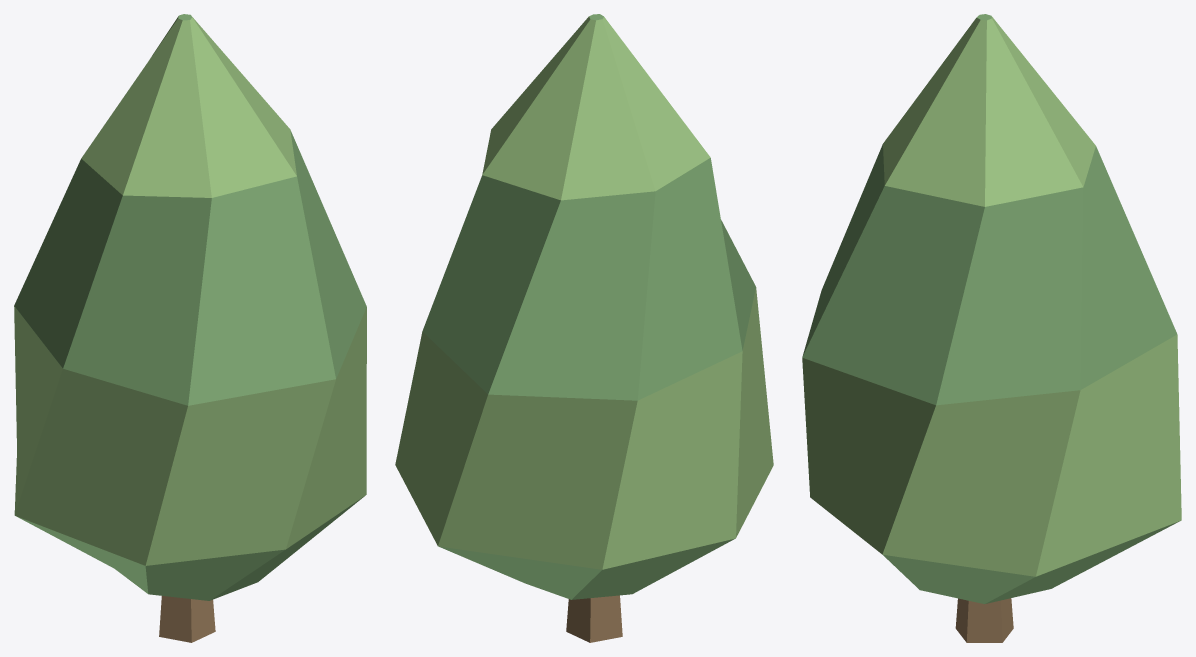
Rendered from Bush_Cone.fbx.
3 views of the same model, side by side, from view 1: azimuth 30°, elevation 25°; view 2: azimuth 150°, elevation 25°; view 3: azimuth 270°, elevation 25° (orthographic).
Parts seen in each view (by area): view 1: Bush_Cone; view 2: Bush_Cone; view 3: Bush_Cone.
Boxes of the visible parts, bbox=[...] form: Bush_Cone: bbox=[14, 14, 366, 642]; Bush_Cone: bbox=[395, 14, 773, 642]; Bush_Cone: bbox=[802, 14, 1181, 642].
Bounding box in the file's own units: 1 × 1.78 × 0.9952.
